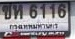txt08: (1, 4, 12, 20)
txt36: (12, 4, 24, 20)
